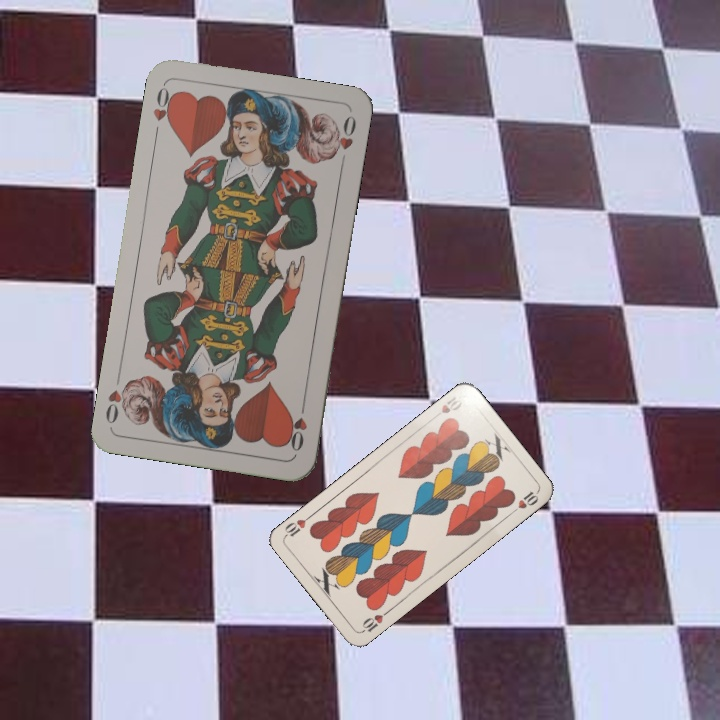H10: (429, 392, 465, 422), (358, 606, 392, 635)
HO: (149, 82, 179, 140), (284, 397, 310, 454)
